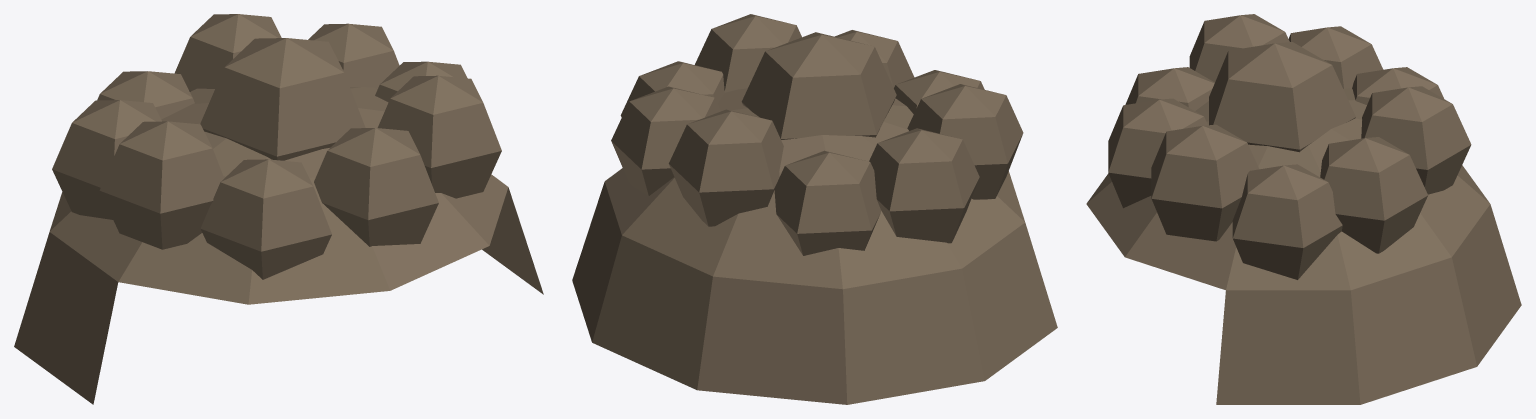
The model's file is curly.glb.
3 renders of one model, left to right at view 1: azimuth 30°, elevation 25°; view 2: azimuth 150°, elevation 25°; view 3: azimuth 270°, elevation 25°, orthographic. The views are drawn at different scales.
Parts seen in each view (by area): view 1: cap, sphere, curl.005, curl.006, curl.007, curl.008, curl.004, curl.002, curl.001, curl.003, curl; view 2: cap, sphere, curl.002, curl.004, curl.003, curl.005, curl.001, curl.008, curl, curl.006, curl.007; view 3: cap, sphere, curl.008, curl, curl.001, curl.002, curl.007, curl.005, curl.004, curl.006, curl.003.
Boxes of the visible parts, left/top/right/bottom form: cap: left=14, top=87, right=543, bottom=404; sphere: left=200, top=38, right=365, bottom=160; curl.005: left=99, top=121, right=224, bottom=249; curl.006: left=200, top=159, right=331, bottom=279; curl.007: left=314, top=128, right=438, bottom=246; curl.008: left=377, top=75, right=501, bottom=198; curl.004: left=52, top=100, right=161, bottom=219; curl.002: left=174, top=14, right=281, bottom=91; curl.001: left=308, top=23, right=399, bottom=89; curl.003: left=97, top=71, right=194, bottom=119; curl: left=375, top=61, right=467, bottom=102; cap: left=572, top=88, right=1057, bottom=404; sphere: left=741, top=32, right=896, bottom=139; curl.002: left=668, top=109, right=783, bottom=226; curl.004: left=869, top=128, right=979, bottom=243; curl.003: left=774, top=150, right=880, bottom=255; curl.005: left=907, top=84, right=1023, bottom=199; curl.001: left=611, top=86, right=720, bottom=195; curl.008: left=695, top=14, right=801, bottom=92; curl: left=620, top=61, right=724, bottom=117; curl.006: left=894, top=70, right=984, bottom=113; curl.007: left=835, top=30, right=914, bottom=87; cap: left=1086, top=88, right=1521, bottom=404; sphere: left=1209, top=42, right=1355, bottom=152; curl.008: left=1151, top=124, right=1258, bottom=241; curl: left=1232, top=164, right=1342, bottom=279; curl.001: left=1320, top=137, right=1428, bottom=253; curl.002: left=1361, top=86, right=1471, bottom=194; curl.007: left=1108, top=98, right=1207, bottom=208; curl.005: left=1189, top=14, right=1289, bottom=82; curl.004: left=1288, top=26, right=1383, bottom=88; curl.006: left=1125, top=67, right=1214, bottom=110; curl.003: left=1352, top=67, right=1443, bottom=104.
Size of the model in its own units: 0.5231 by 0.32 by 0.4824.
